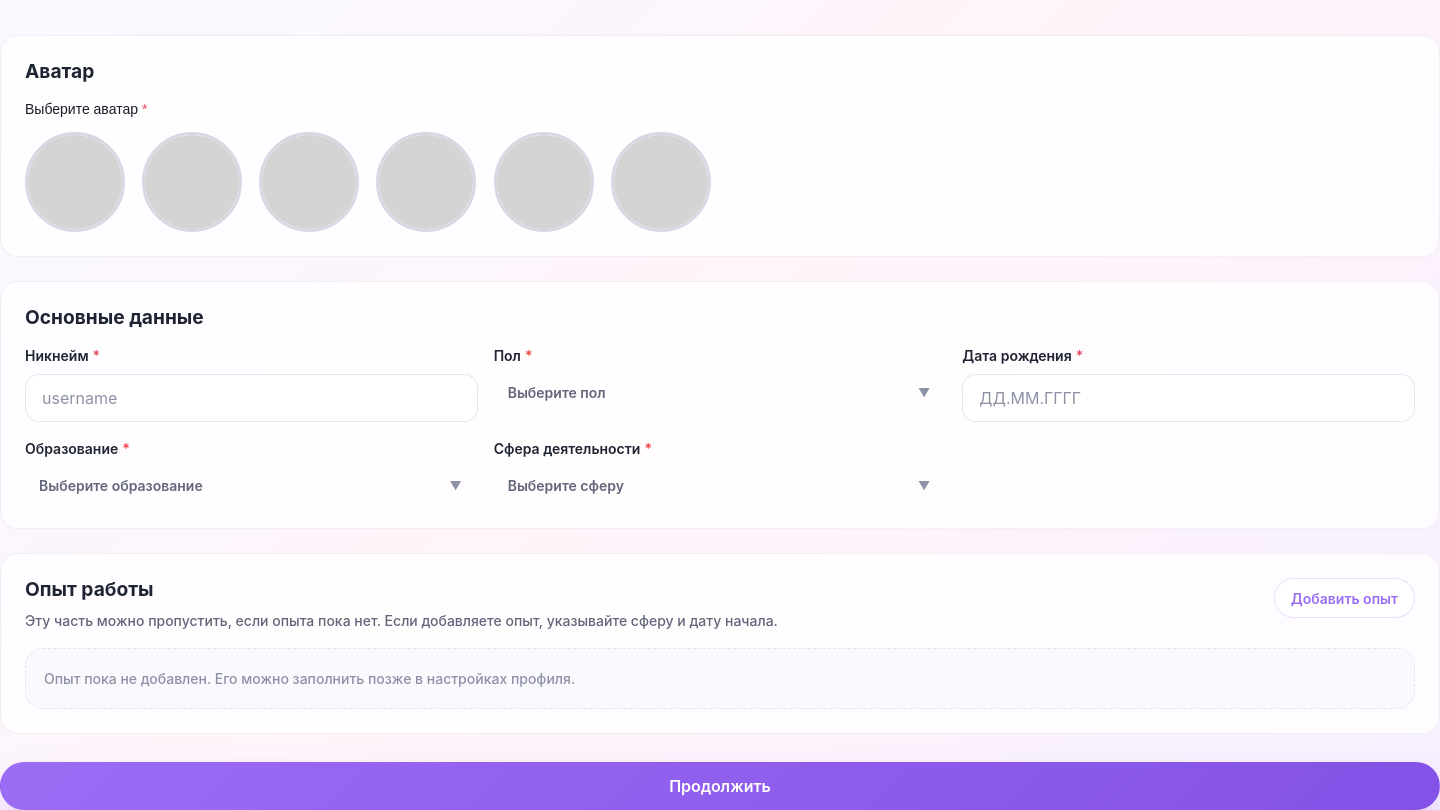
ProfileForm › shows required errors when submitting an empty form
(page scrolled)
Click the button "Продолжить".
click(720, 786)  # box [0,762,1439,809]
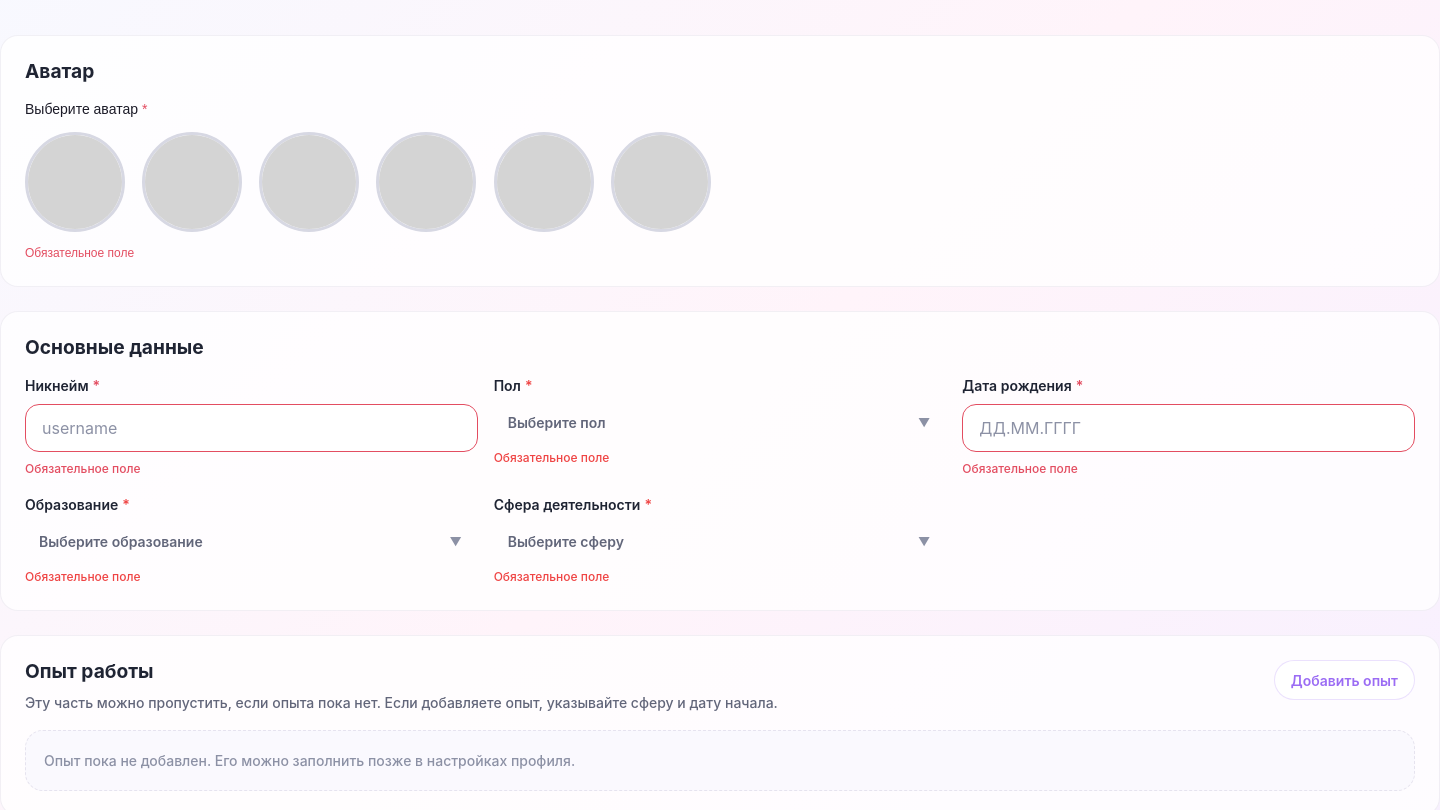
Now the text "Обязательное поле" is shown 6 times, box [25,246,134,260]; [25,461,141,476]; [494,450,609,465]; [962,461,1078,476]; [25,569,141,584]; [494,569,609,584]
